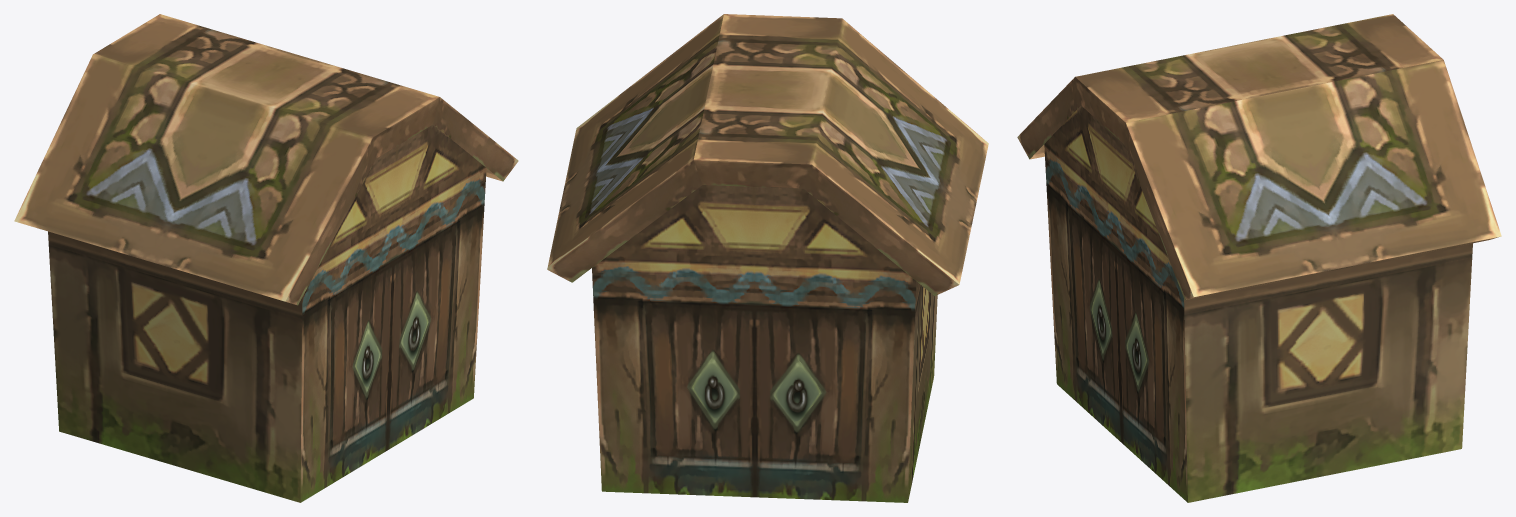
File: Z01_jianzhu_05.FBX
The picture shows the model from 3 angles, left to right: view 1: azimuth 30°, elevation 25°; view 2: azimuth 150°, elevation 25°; view 3: azimuth 270°, elevation 25°; orthographic projection. The views are drawn at different scales.
Parts seen in each view (by area): view 1: 对象18; view 2: 对象18; view 3: 对象18.
Boxes of the visible parts, x1=… form: 对象18: x1=14, y1=14, x2=518, y2=502; 对象18: x1=547, y1=14, x2=988, y2=502; 对象18: x1=1017, y1=14, x2=1501, y2=502.
Bounding box in the file's own units: 287 × 211 × 266.
